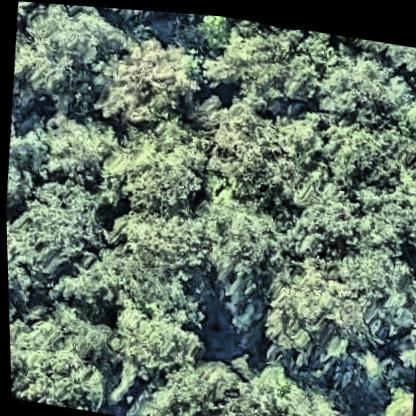tree-top: (117, 342, 362, 416), (301, 92, 416, 245), (271, 229, 414, 349), (94, 99, 220, 221), (7, 296, 118, 411), (13, 1, 122, 111), (204, 14, 324, 108), (209, 97, 317, 199), (198, 189, 286, 308), (92, 32, 200, 128), (4, 176, 99, 281), (315, 32, 416, 126), (75, 245, 191, 322), (109, 294, 202, 375), (38, 110, 113, 190), (117, 212, 207, 264), (373, 377, 412, 416)
